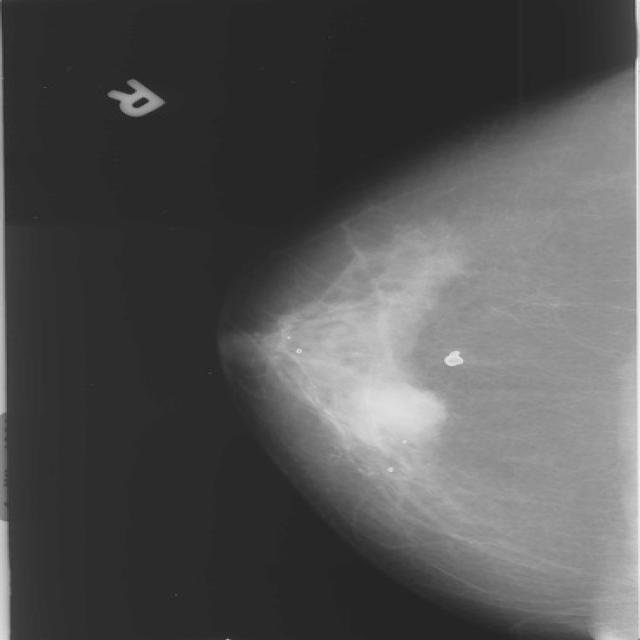tumour: (343, 383, 444, 443)
